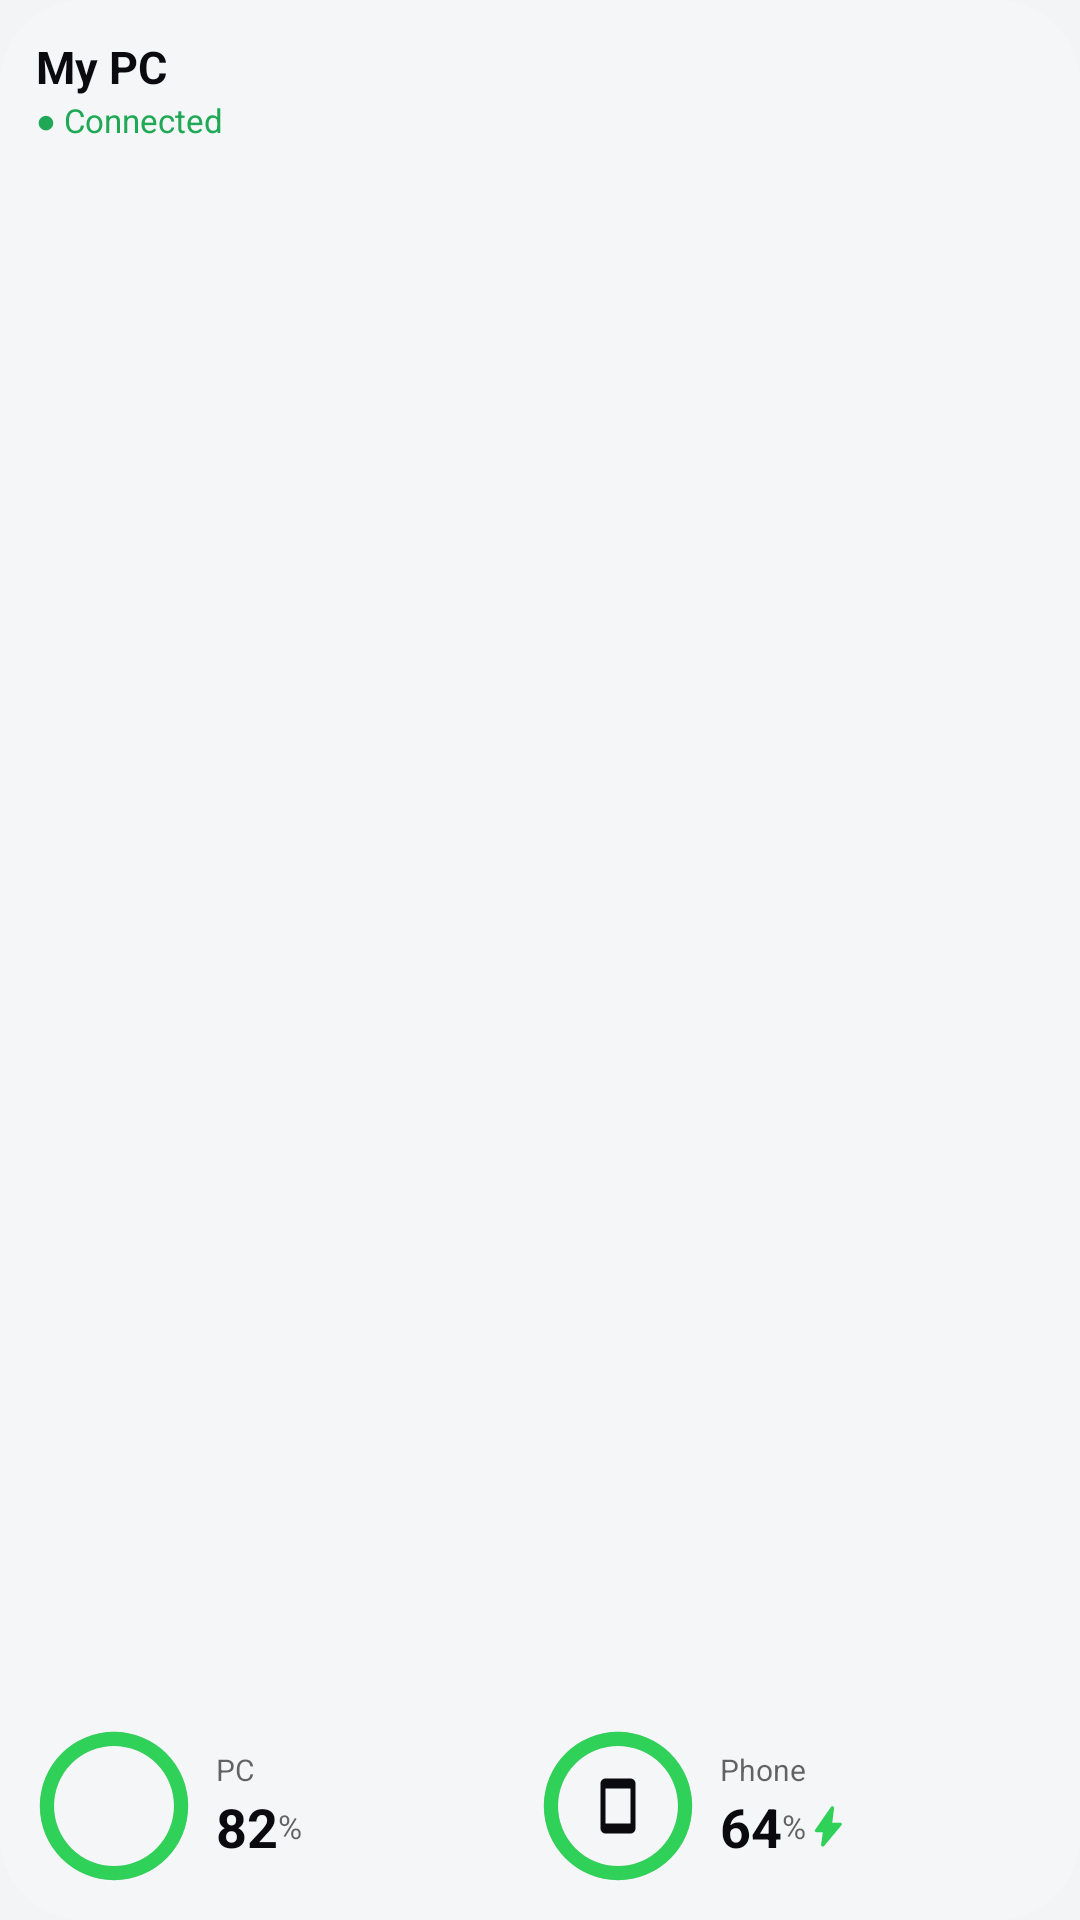

Named icons in this screenshot (1080px×1920px) and their centers, (x=x, y=y):
bolt: (x=828, y=1826)
